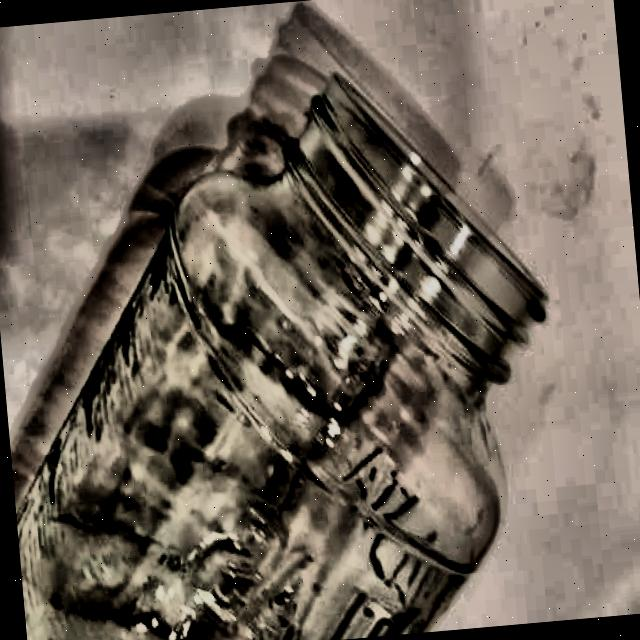glass: (0, 51, 582, 640)
